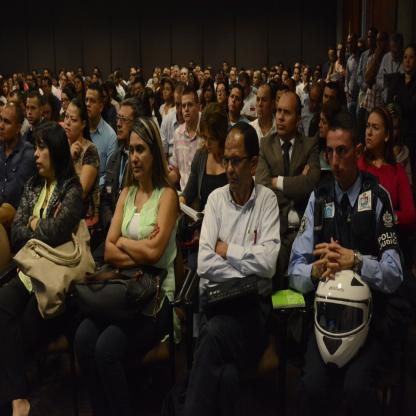Helmet: (318, 266, 375, 372)
